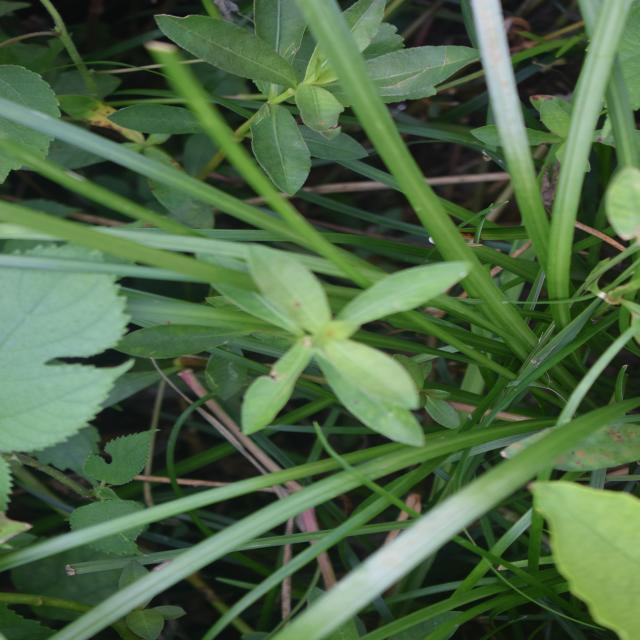Alligatorweed: (502, 162, 640, 468)
